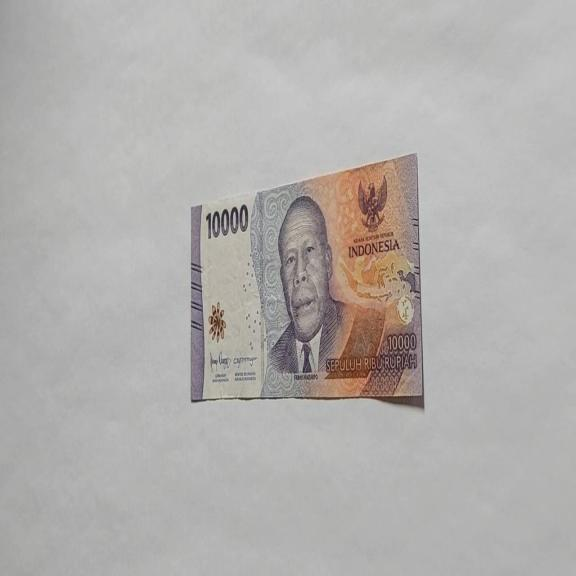Kertas: (190, 151, 425, 406)
